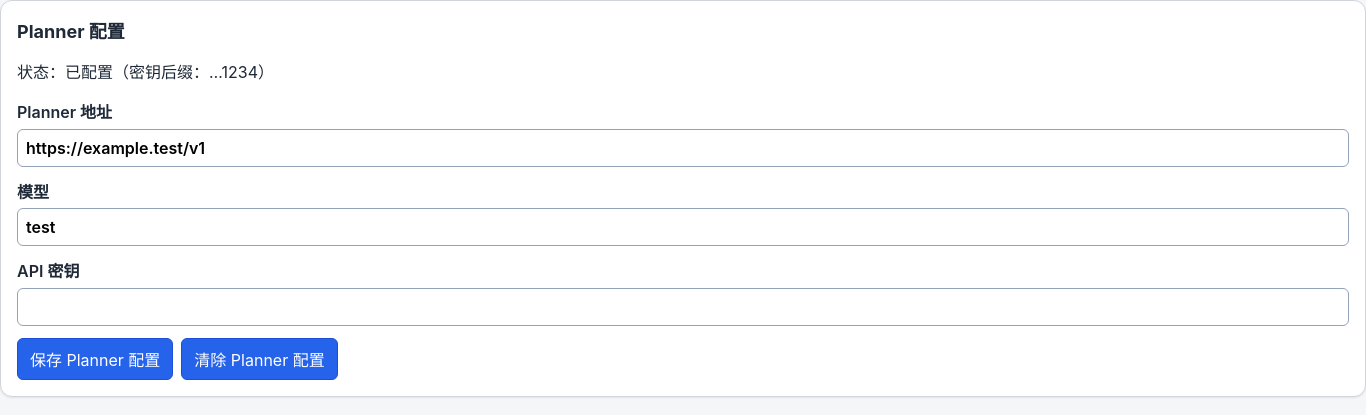
Test case: PlannerSettings › clears the configured Planner status
This screenshot has width=1366, height=415.
Click the button "清除 Planner 配置" at (259, 359), box [181,338,338,380]
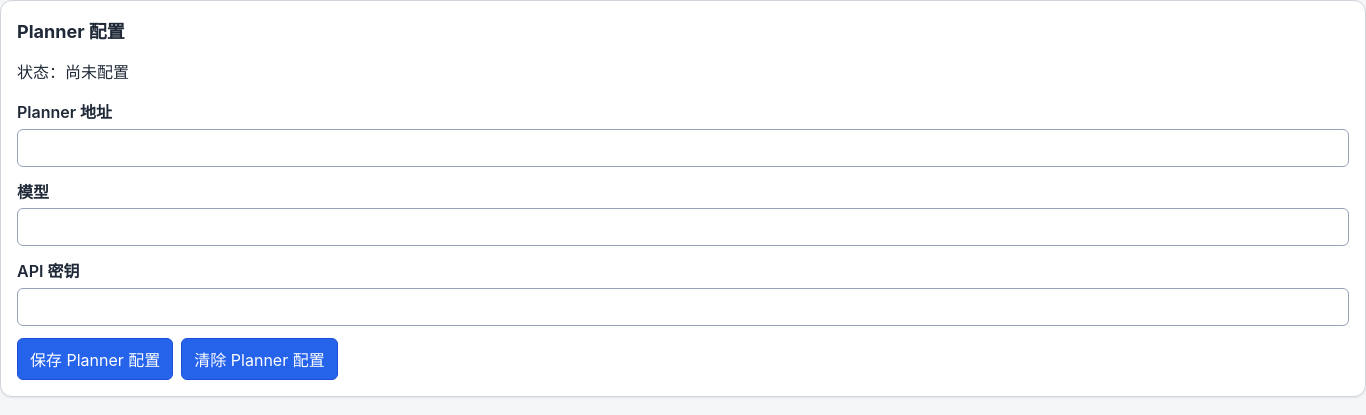
Expected: the text "尚未配置" is shown, [65,62,129,82]
